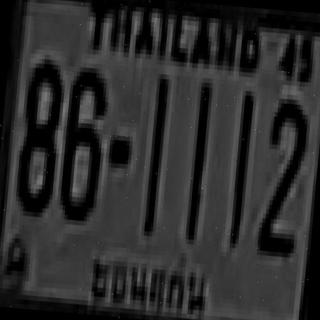N01: (182, 80, 210, 242), (143, 74, 168, 232), (227, 90, 251, 244)
N02: (257, 95, 306, 251)
N06: (56, 61, 108, 217)
N08: (13, 53, 63, 213)
P18: (82, 245, 219, 320)
